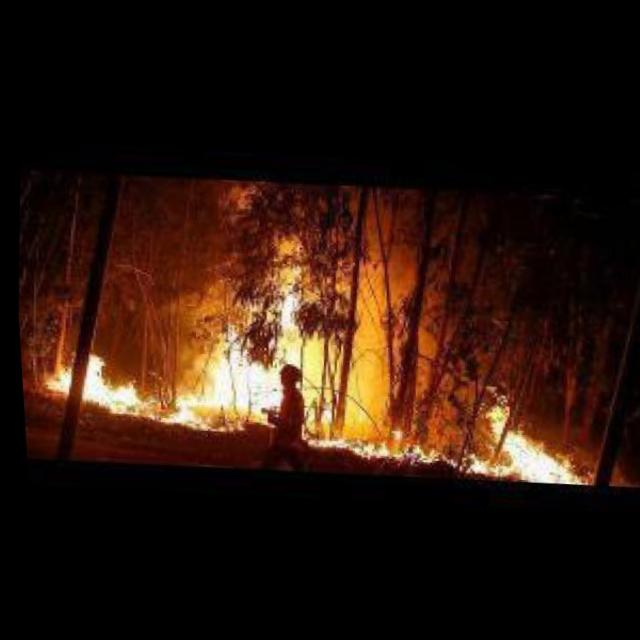Fire: (29, 210, 370, 434), (380, 382, 587, 489)
